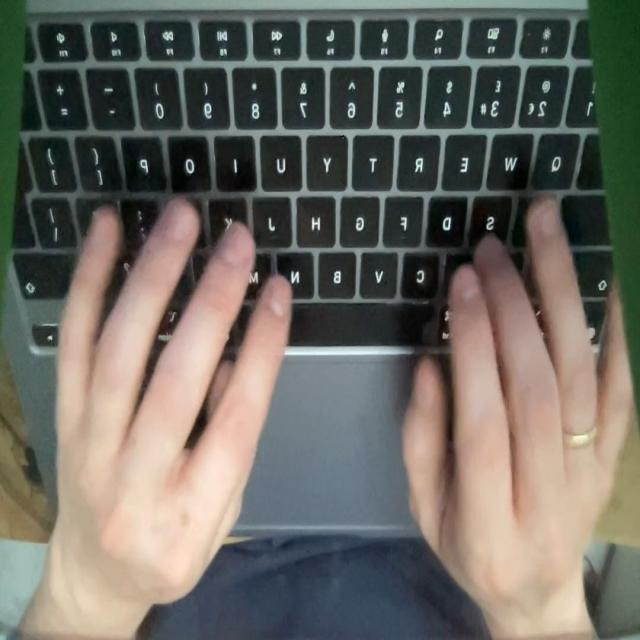keyboard-with-hands: (2, 0, 619, 543)
